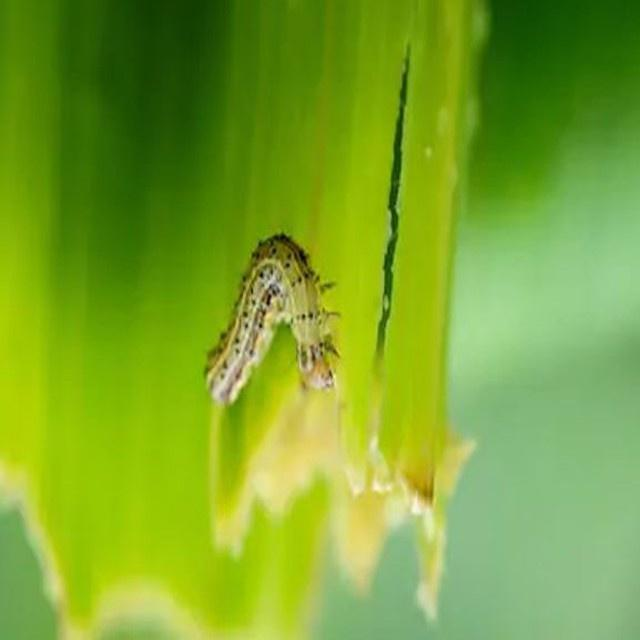gusano_cogollero: (208, 234, 334, 396)
